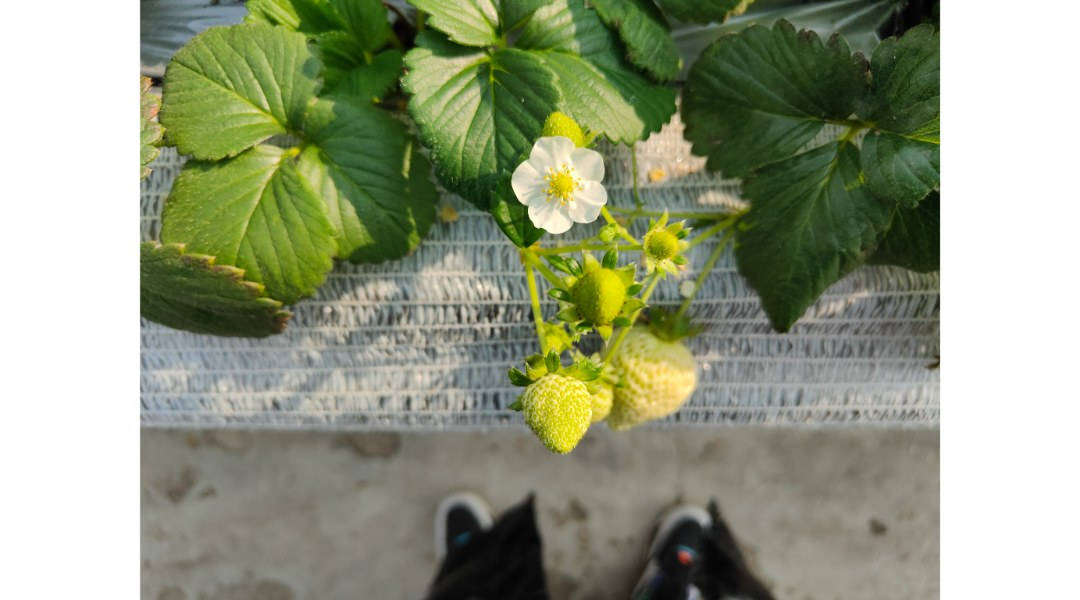berry: (604, 310, 711, 438), (504, 353, 605, 459), (556, 249, 641, 339), (630, 208, 694, 274)
flower: (510, 131, 609, 241)
strain: (670, 235, 733, 338), (513, 257, 555, 351)
